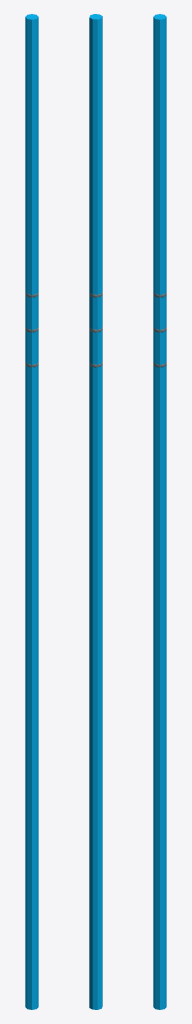
Rendered from JWC_Weapon_Yari_A_03.fbx.
3 renders of one model, left to right at view 1: azimuth 90°, elevation 25°; view 2: azimuth 150°, elevation 25°; view 3: azimuth 270°, elevation 25°, orthographic.
Visible parts, largest first — view 1: C_JWC_Weapon_Yari_A_03, JWC_Weapon_Yari_A_03; view 2: C_JWC_Weapon_Yari_A_03, JWC_Weapon_Yari_A_03; view 3: C_JWC_Weapon_Yari_A_03, JWC_Weapon_Yari_A_03.
Part boxes in pixels (<box>): C_JWC_Weapon_Yari_A_03: <box>25,14,38,1009</box>; JWC_Weapon_Yari_A_03: <box>25,292,38,367</box>; C_JWC_Weapon_Yari_A_03: <box>89,14,102,1009</box>; JWC_Weapon_Yari_A_03: <box>89,292,102,367</box>; C_JWC_Weapon_Yari_A_03: <box>153,14,166,1009</box>; JWC_Weapon_Yari_A_03: <box>153,292,166,367</box>.
Size of the model in its own units: 0.0495 by 3.99 by 0.0495.
